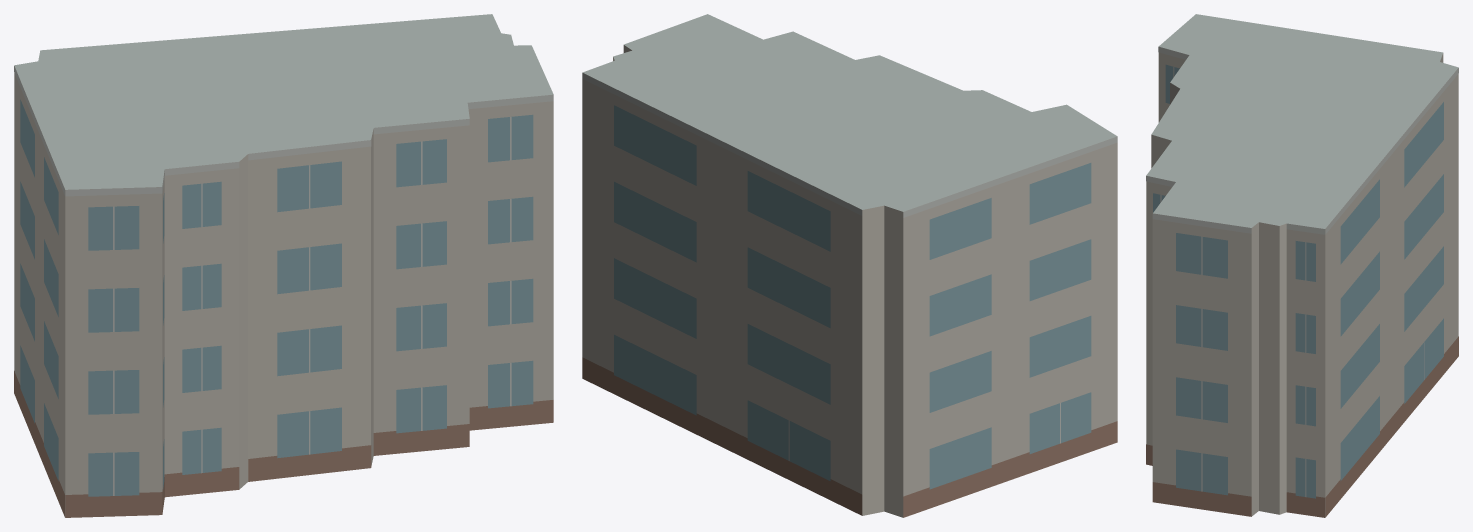
File: survey-upis-32808002.glb
3 renders of one model, left to right at view 1: azimuth 30°, elevation 25°; view 2: azimuth 150°, elevation 25°; view 3: azimuth 270°, elevation 25°, orthographic. The views are drawn at different scales.
Parts seen in each view (by area): view 1: survey-upis-32808002.tmp; view 2: survey-upis-32808002.tmp; view 3: survey-upis-32808002.tmp.
Boxes of the visible parts, box(x1,y1,x2,y2) form: survey-upis-32808002.tmp: box(14, 14, 553, 517); survey-upis-32808002.tmp: box(582, 14, 1117, 517); survey-upis-32808002.tmp: box(1146, 14, 1458, 517).
Size of the model in its own units: 19.49 by 12.2 by 11.98.
